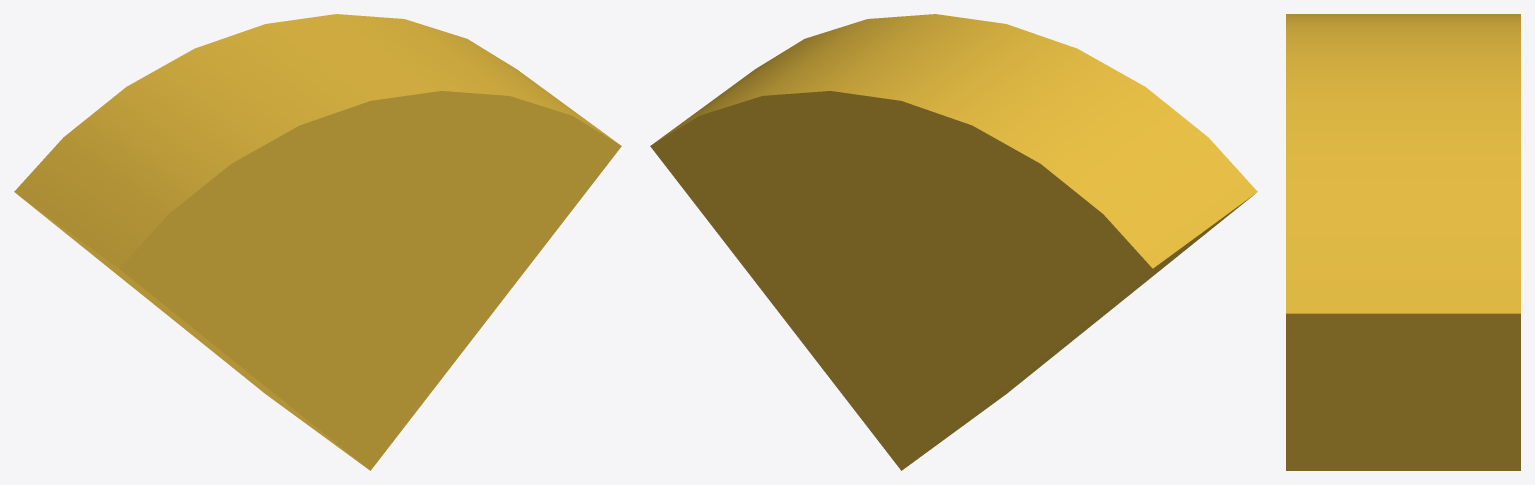
Rendered from slice_1.glb.
3 renders of one model, left to right at view 1: azimuth 30°, elevation 25°; view 2: azimuth 150°, elevation 25°; view 3: azimuth 270°, elevation 25°, orthographic. The views are drawn at different scales.
Parts seen in each view (by area): view 1: slice1; view 2: slice1; view 3: slice1.
Boxes of the visible parts, x1,y1,x2,y2 form: slice1: [14, 14, 621, 470]; slice1: [650, 14, 1257, 470]; slice1: [1286, 14, 1520, 470].
Size of the model in its own units: 0.5526 by 0.3887 by 0.2.
